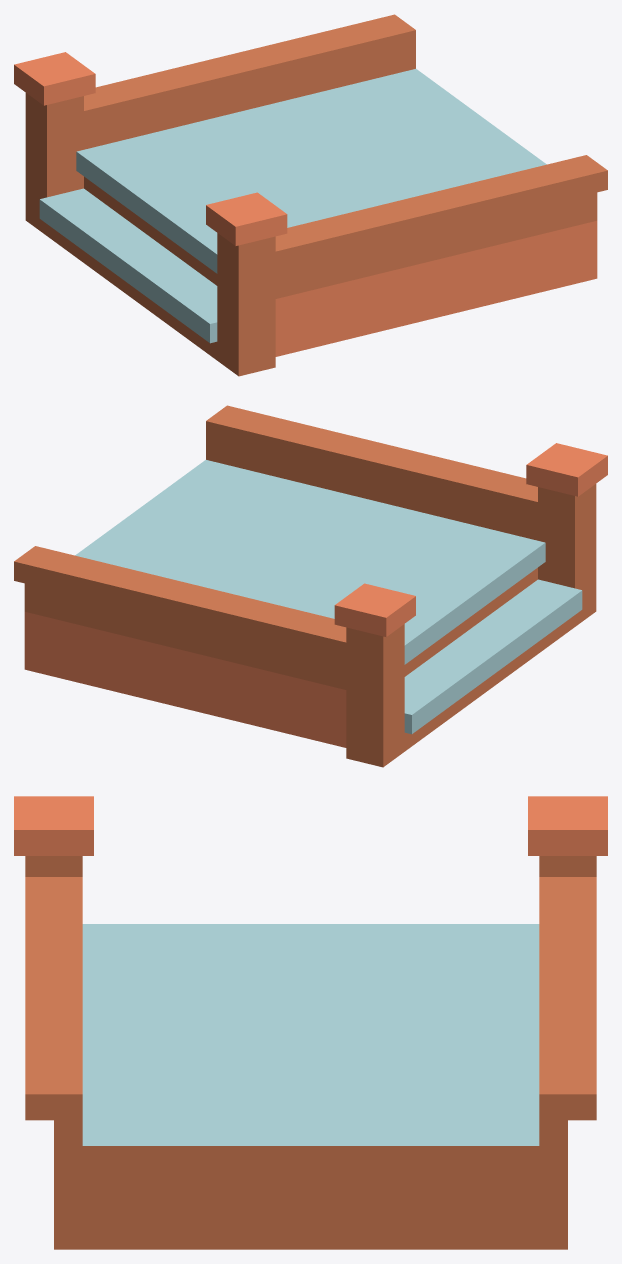
3 views of the same model, one above another, from view 1: azimuth 30°, elevation 25°; view 2: azimuth 150°, elevation 25°; view 3: azimuth 270°, elevation 25° (orthographic). The views are drawn at different scales.
Parts seen in each view (by area): view 1: bridge_side_wood; view 2: bridge_side_wood; view 3: bridge_side_wood.
Boxes of the visible parts, x1,y1,x2,y2 form: bridge_side_wood: [14, 14, 607, 376]; bridge_side_wood: [14, 405, 607, 767]; bridge_side_wood: [14, 796, 607, 1249].
Size of the model in its own units: 1.02 by 0.4 by 1.04.
